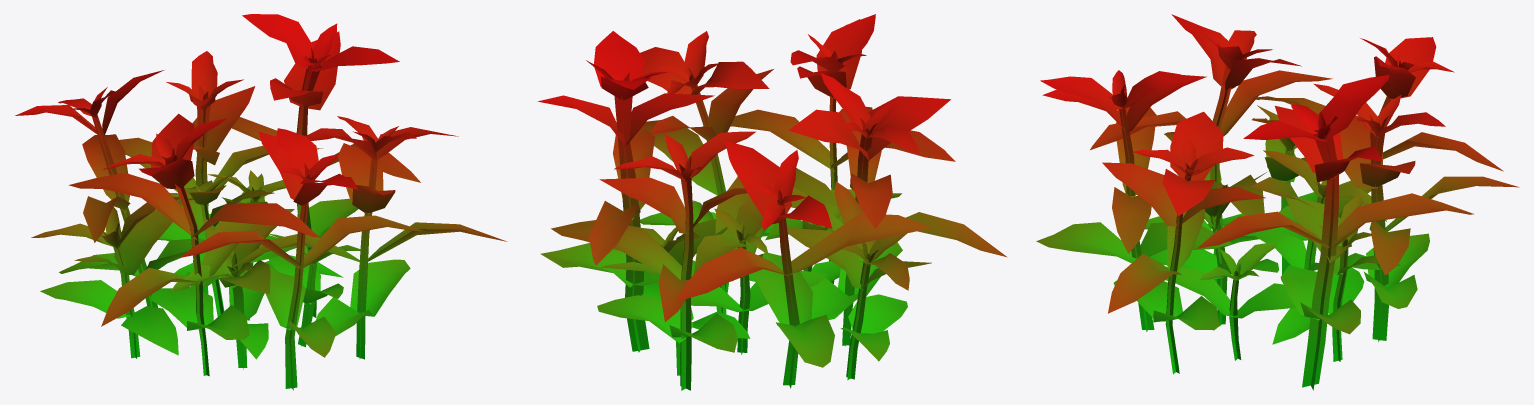
File: Var5_LOD3.fbx
3 views of the same model, side by side, from view 1: azimuth 30°, elevation 25°; view 2: azimuth 150°, elevation 25°; view 3: azimuth 270°, elevation 25° (orthographic). The views are drawn at different scales.
Visible parts, largest first — view 1: _dfse_Var5_LOD3; view 2: _dfse_Var5_LOD3; view 3: _dfse_Var5_LOD3.
Part boxes in pixels (left/top/right/bottom): _dfse_Var5_LOD3: left=15, top=14, right=507, bottom=390; _dfse_Var5_LOD3: left=537, top=14, right=1007, bottom=390; _dfse_Var5_LOD3: left=1036, top=14, right=1519, bottom=390.
Bounding box in the file's own units: 30.9 × 21.91 × 32.37.
